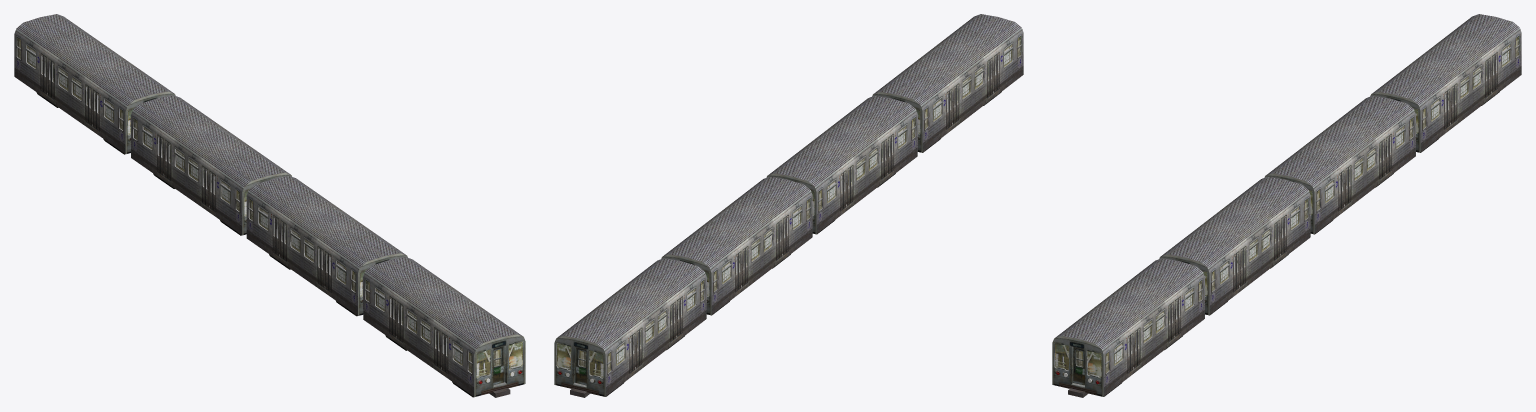
Rendered from SubwayTraincarts.fbx.
3 views of the same model, side by side, from view 1: azimuth 30°, elevation 25°; view 2: azimuth 150°, elevation 25°; view 3: azimuth 330°, elevation 25° (orthographic). The views are drawn at different scales.
Parts seen in each view (by area): view 1: SubwayCart; view 2: SubwayCart; view 3: SubwayCart.
Part boxes in pixels (<box>): SubwayCart: <box>14,14,525,397</box>; SubwayCart: <box>554,14,1023,397</box>; SubwayCart: <box>1052,14,1521,397</box>.
Size of the model in its own units: 3.95 by 3.56 by 44.72.
